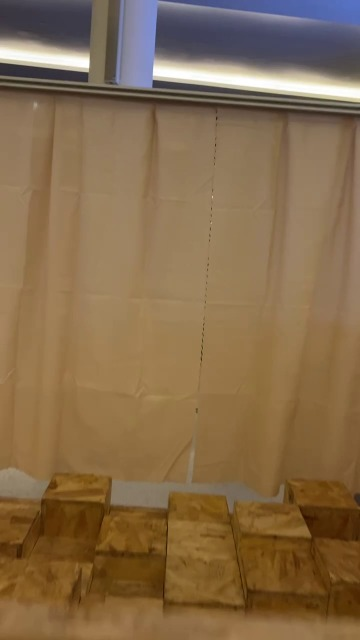curtain: (0, 77, 360, 493)
